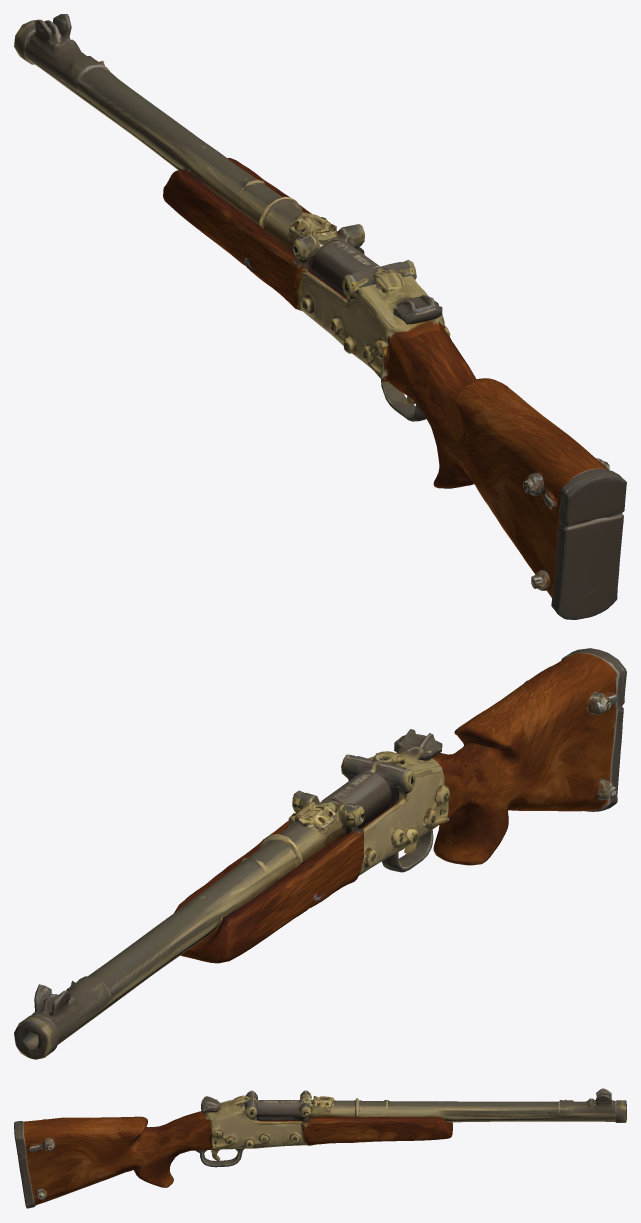
File: rifle.glb
3 renders of one model, top to bottom at view 1: azimuth 30°, elevation 25°; view 2: azimuth 150°, elevation 25°; view 3: azimuth 270°, elevation 25°, orthographic. The views are drawn at different scales.
Visible parts, largest first — view 1: tripo_node_146d8141-7a0a-4bc0-9792-885069b0f849; view 2: tripo_node_146d8141-7a0a-4bc0-9792-885069b0f849; view 3: tripo_node_146d8141-7a0a-4bc0-9792-885069b0f849.
Part boxes in pixels (left/top/right/bottom): tripo_node_146d8141-7a0a-4bc0-9792-885069b0f849: left=14, top=14, right=626, bottom=619; tripo_node_146d8141-7a0a-4bc0-9792-885069b0f849: left=14, top=648, right=626, bottom=1059; tripo_node_146d8141-7a0a-4bc0-9792-885069b0f849: left=14, top=1088, right=626, bottom=1208.
Bounding box in the file's own units: 0.3475 × 0.85 × 4.14.
1 material, 1 textured.
